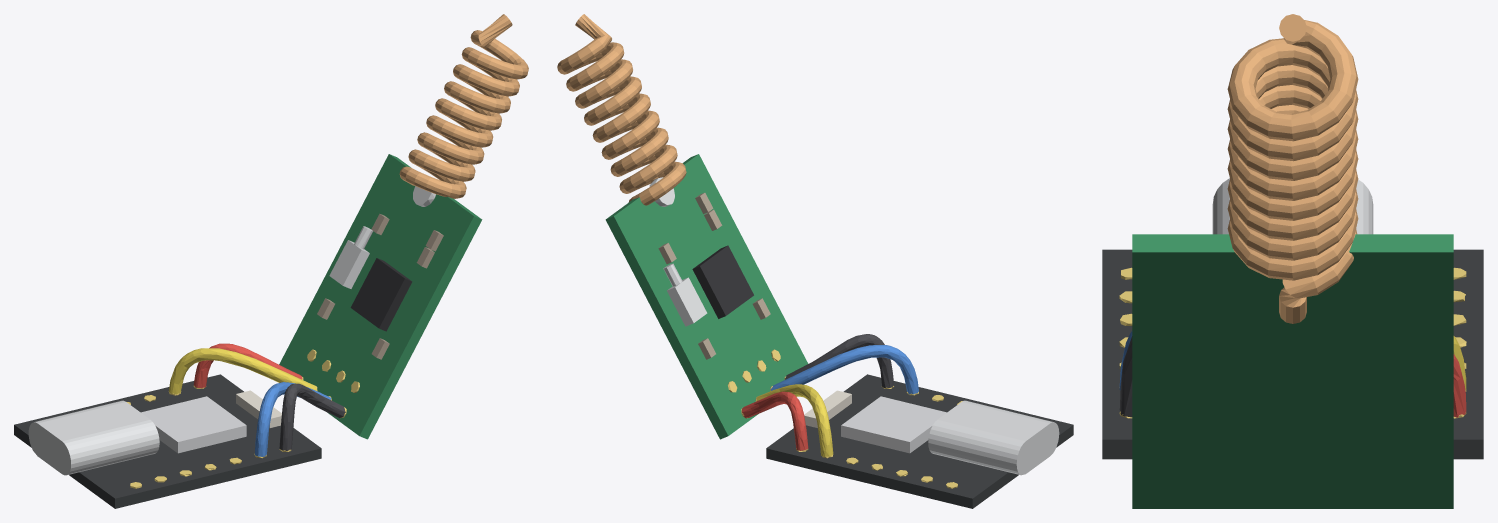
The model's file is water-meter.v1.glb.
3 views of the same model, side by side, from view 1: azimuth 30°, elevation 25°; view 2: azimuth 150°, elevation 25°; view 3: azimuth 270°, elevation 25° (orthographic). The views are drawn at different scales.
Visible parts, largest first — view 1: xiao-pcb; view 2: xiao-pcb; view 3: xiao-pcb.
Boxes of the visible parts, x1,y1,x2,y2 form: xiao-pcb: (14,14,528,508); xiao-pcb: (557,14,1073,508); xiao-pcb: (1102,14,1483,508).
Bounding box in the file's own units: 48.3 × 34.01 × 17.8.
1 material, 1 textured.
